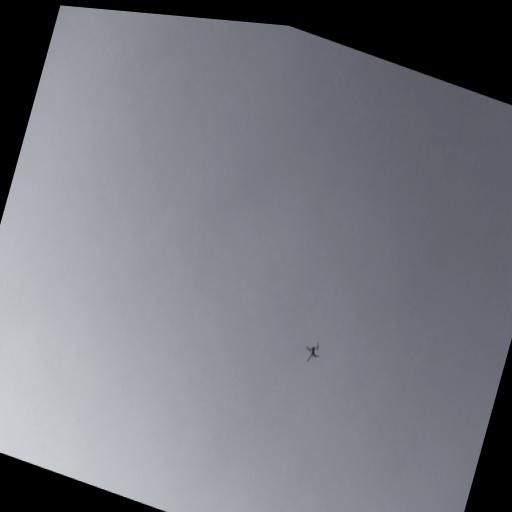drones: (301, 336, 323, 367)
